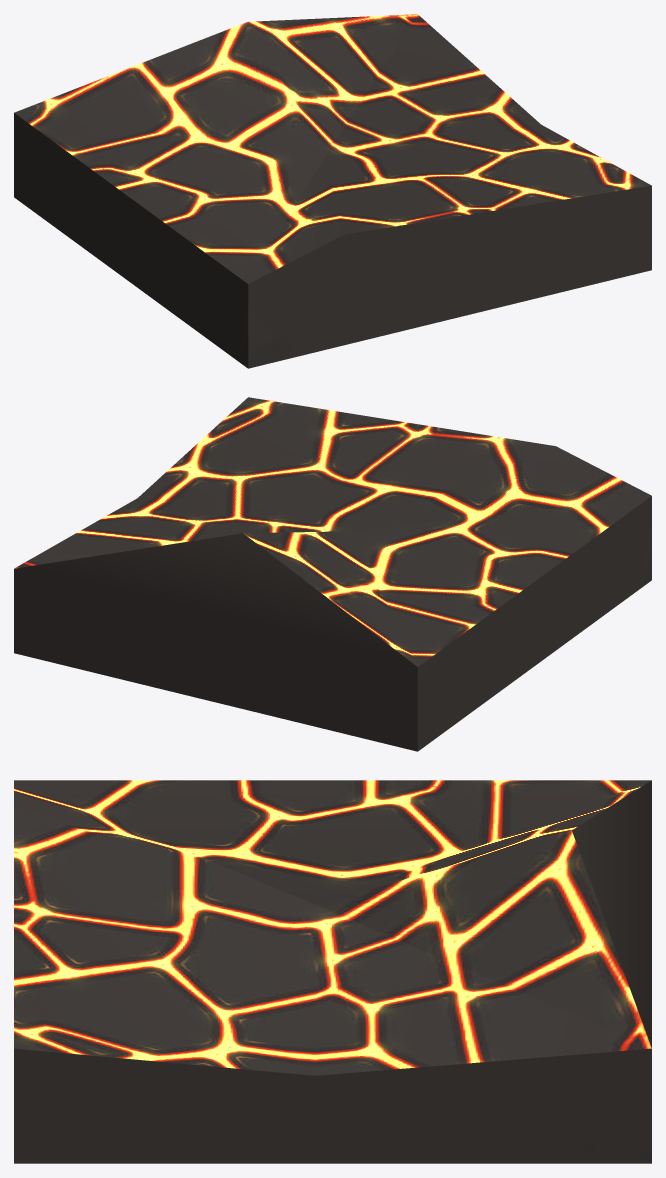
Rendered from ARC0310013.fbx.
The picture shows the model from 3 angles, top to bottom: view 1: azimuth 30°, elevation 25°; view 2: azimuth 150°, elevation 25°; view 3: azimuth 270°, elevation 25°; orthographic projection. The views are drawn at different scales.
Parts seen in each view (by area): view 1: smARC0310013; view 2: smARC0310013; view 3: smARC0310013.
Boxes of the visible parts, x1,y1,x2,y2 form: smARC0310013: (14,14,651,368); smARC0310013: (14,397,651,751); smARC0310013: (14,780,651,1163).
Bounding box in the file's own units: 202 × 70.36 × 203.
1 material, 1 textured.
